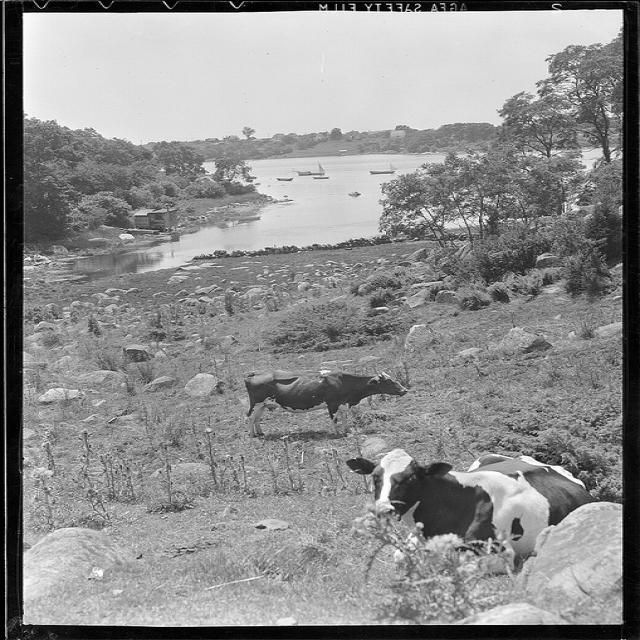cow: (346, 446, 597, 559), (242, 365, 406, 435)
